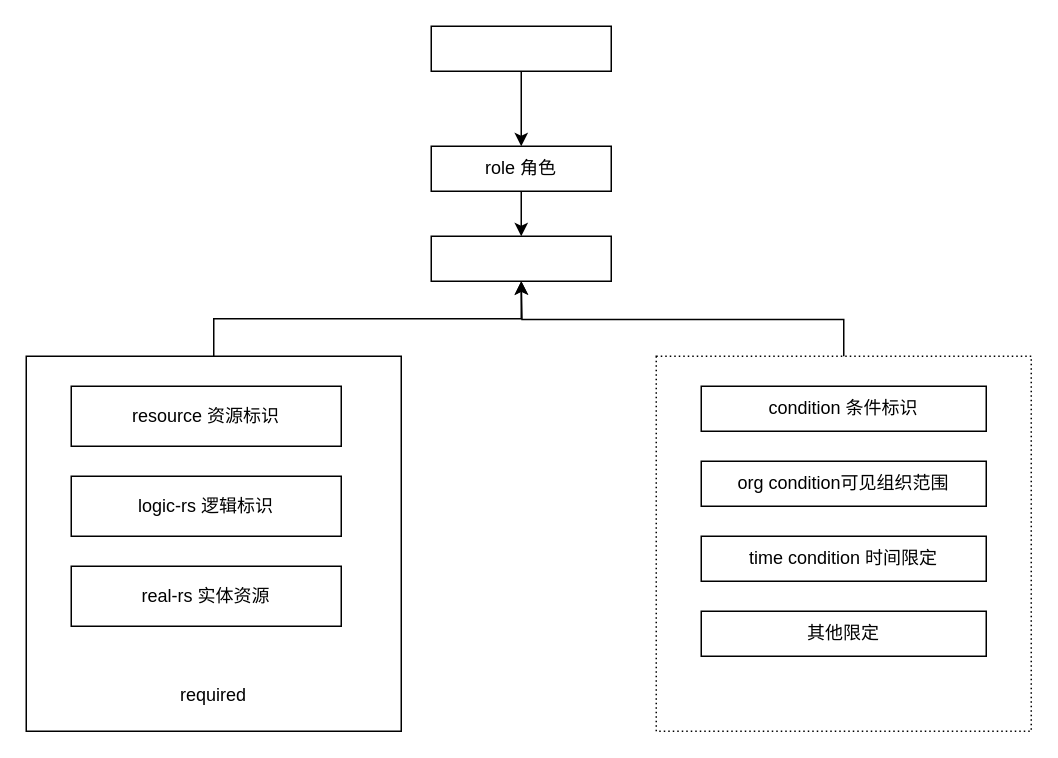
Image size: 1058x758. Some labels were removed from this diagram. The shapes that lost their labels are listed below. From the top down, each one's centre as x and y in pixels, then its label:
At (x=520, y=48): "user用户".
At (x=520, y=258): "permission 权限标识".
